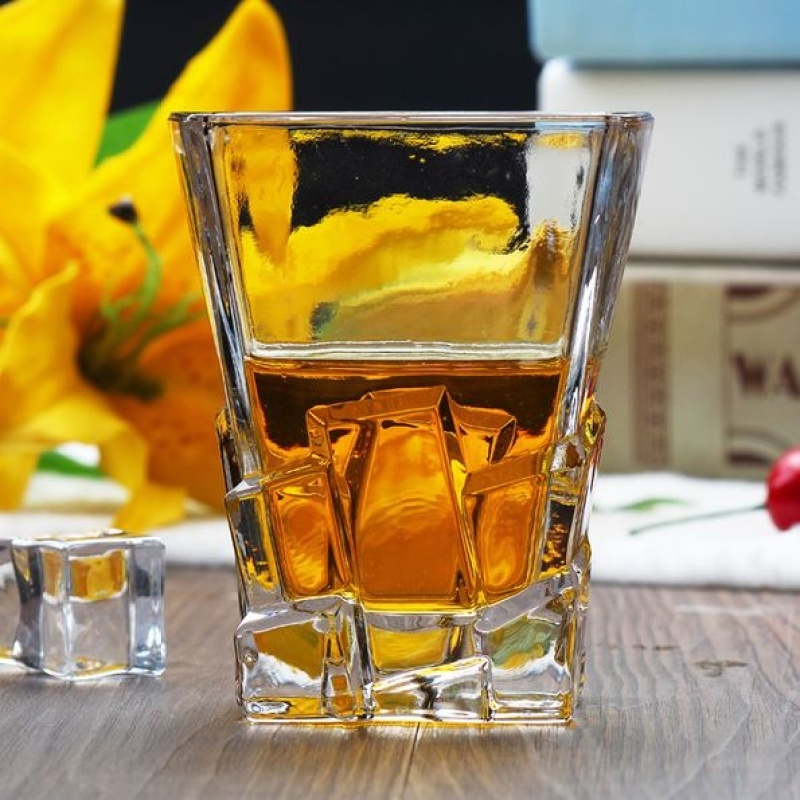whiskey: (162, 108, 648, 744)
